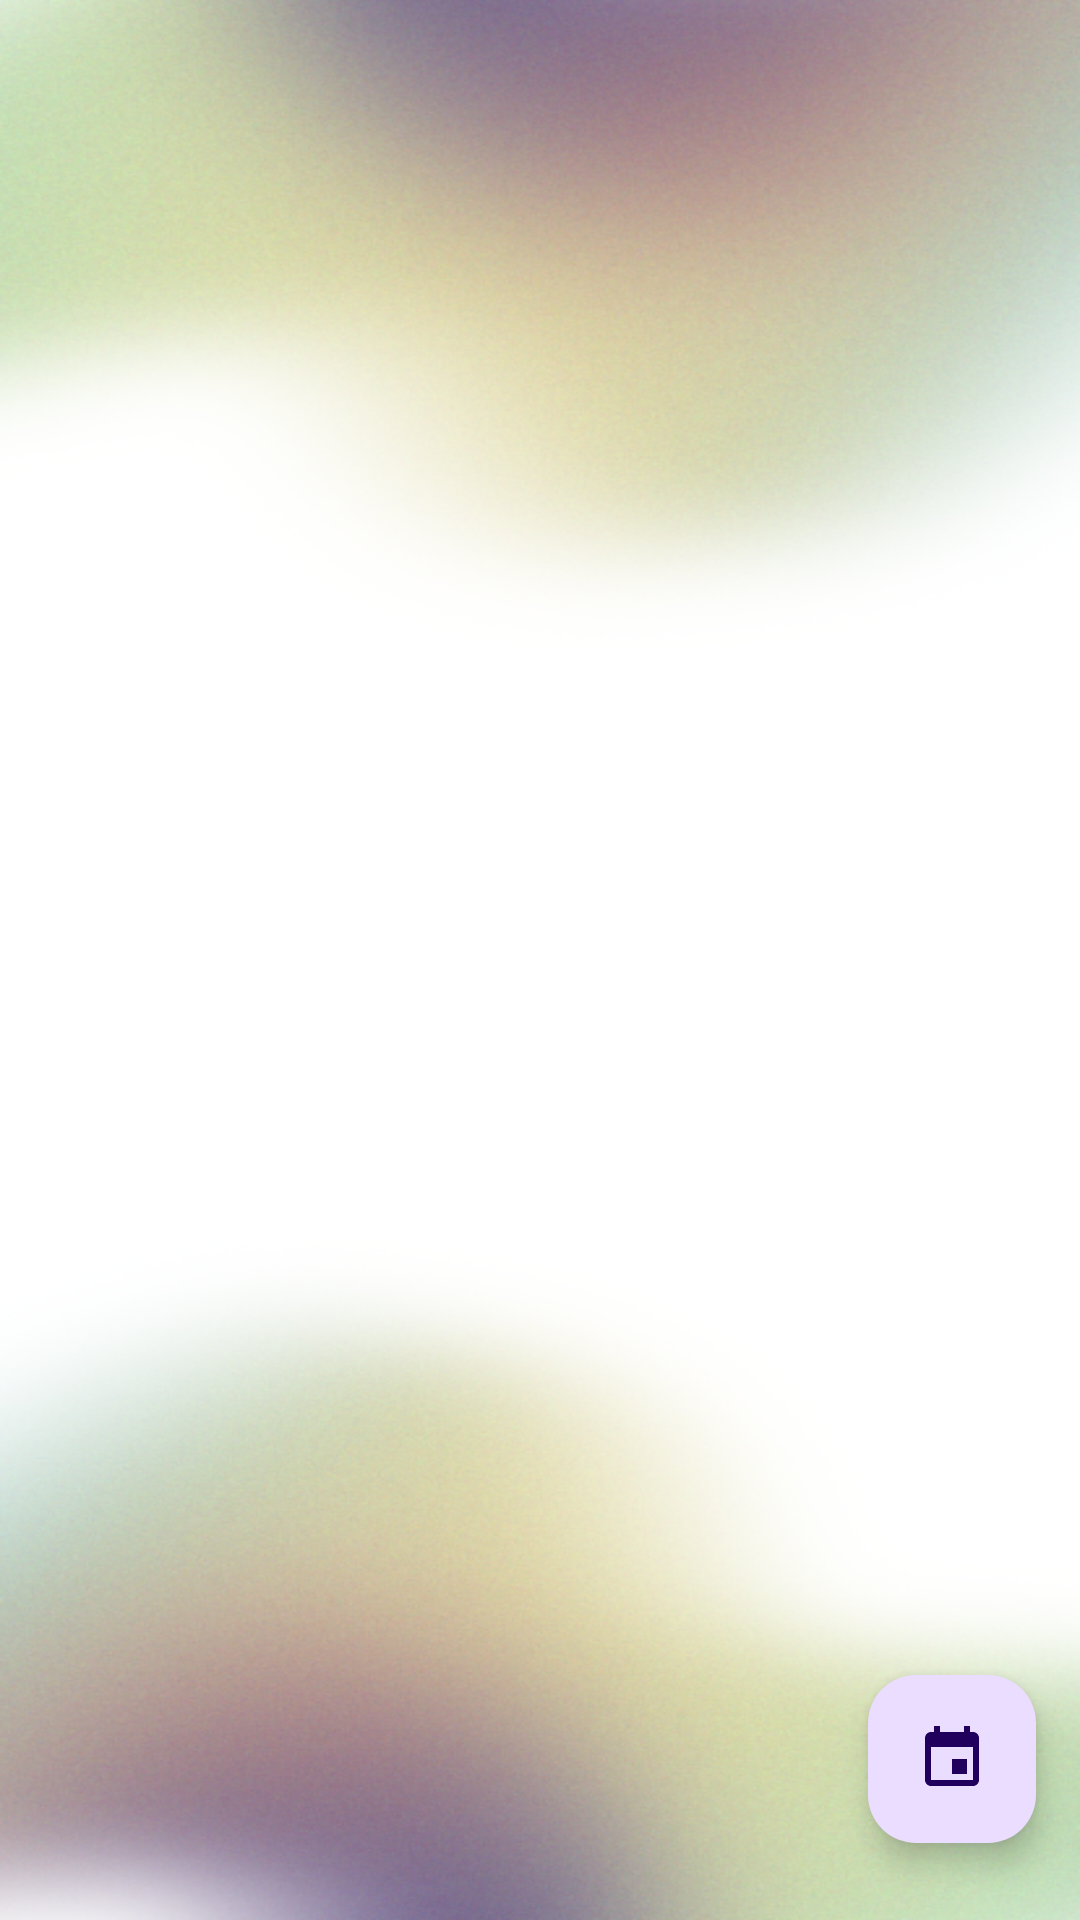

Where to tap for icons on this 1080*1920 app screen, as point (x, y):
addevent: point (952, 1759)
